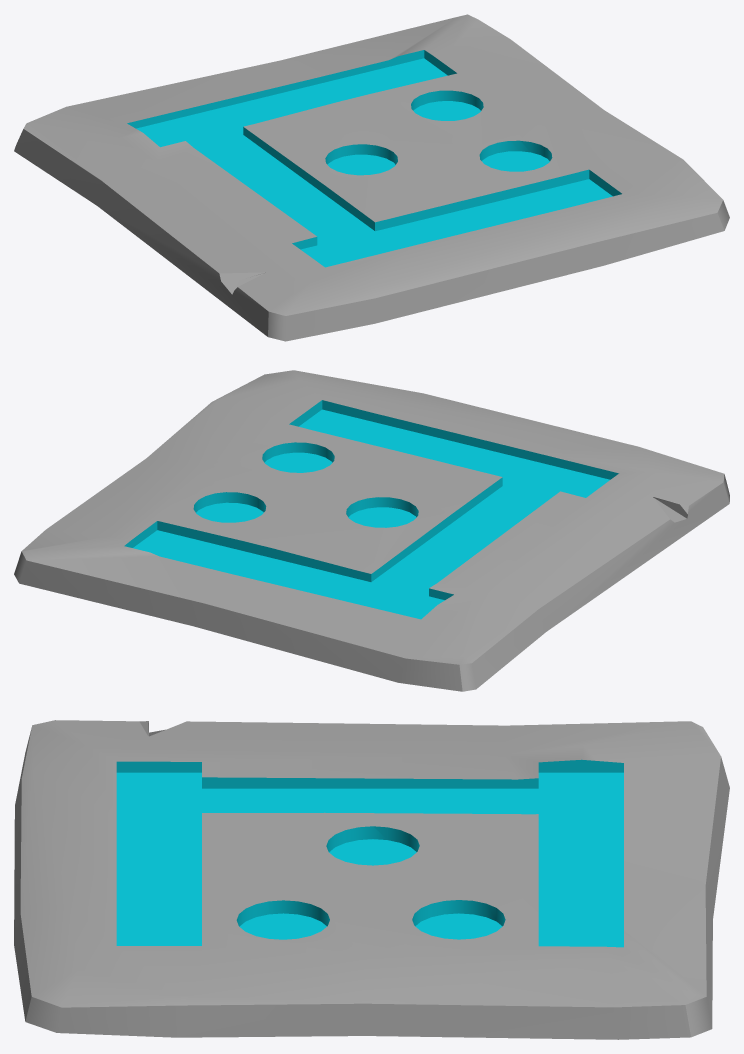
Rendered from dalle18.fbx.
3 renders of one model, top to bottom at view 1: azimuth 30°, elevation 25°; view 2: azimuth 150°, elevation 25°; view 3: azimuth 270°, elevation 25°, orthographic. The views are drawn at different scales.
Visible parts, largest first — view 1: pCube4; view 2: pCube4; view 3: pCube4.
Part boxes in pixels (left/top/right/bottom): pCube4: left=14, top=14, right=729, bottom=341; pCube4: left=14, top=370, right=729, bottom=691; pCube4: left=14, top=720, right=729, bottom=1039.
Size of the model in its own units: 6.99 by 0.4395 by 7.18.
